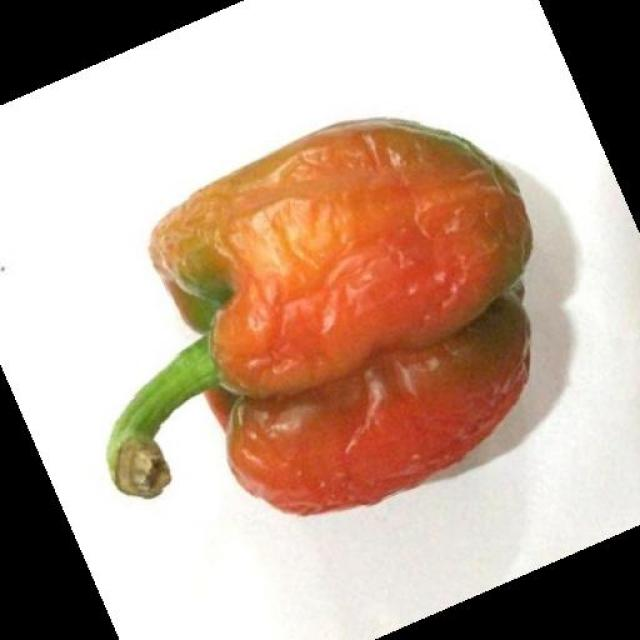Stale_Capsicum: (103, 110, 585, 565)
